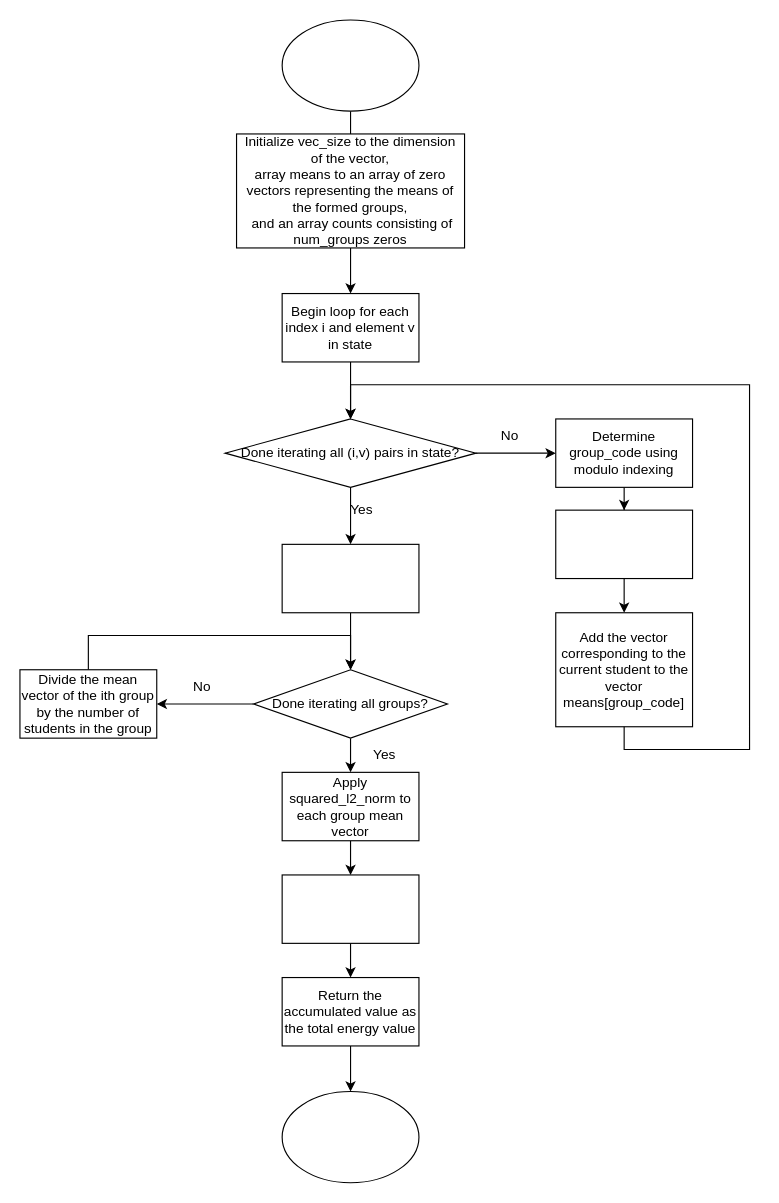
Image size: 779x1203. Some labels were removed from this diagram. The shapes that lost their labels are listed below. From the top down, each one's centre as x and y in pixels, then its label:
the point at 350,65: Start
the point at 624,544: Increment group's count (i.e., number of students in a group) by 1
the point at 350,578: Begin loop for each group to determine mean vectors
the point at 350,908: Accumulate the norms of all group mean vectors
the point at 350,1136: End
